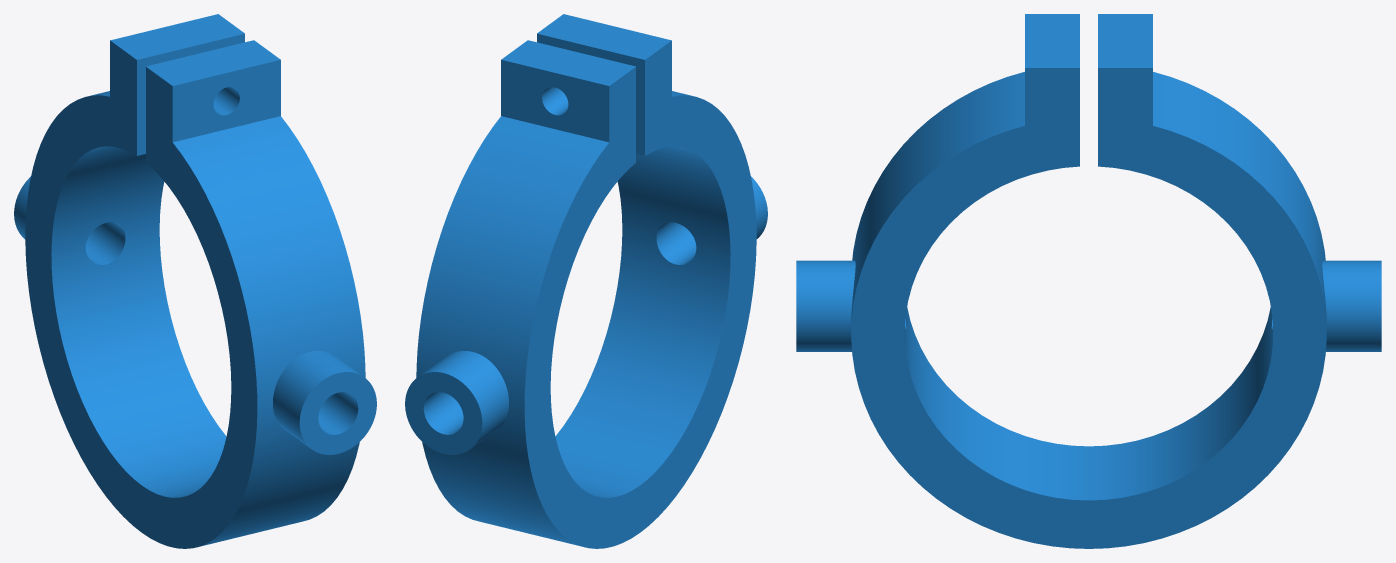
Rendered from mag_sensor_nivel.glb.
3 renders of one model, left to right at view 1: azimuth 30°, elevation 25°; view 2: azimuth 150°, elevation 25°; view 3: azimuth 270°, elevation 25°, orthographic. The views are drawn at different scales.
Parts seen in each view (by area): view 1: mag_sensor_nivel; view 2: mag_sensor_nivel; view 3: mag_sensor_nivel.
Part boxes in pixels (left/top/right/bottom): mag_sensor_nivel: left=14, top=14, right=376, bottom=548; mag_sensor_nivel: left=405, top=14, right=767, bottom=548; mag_sensor_nivel: left=796, top=14, right=1381, bottom=548.
Bounding box in the file's own units: 14 × 58 × 64.
